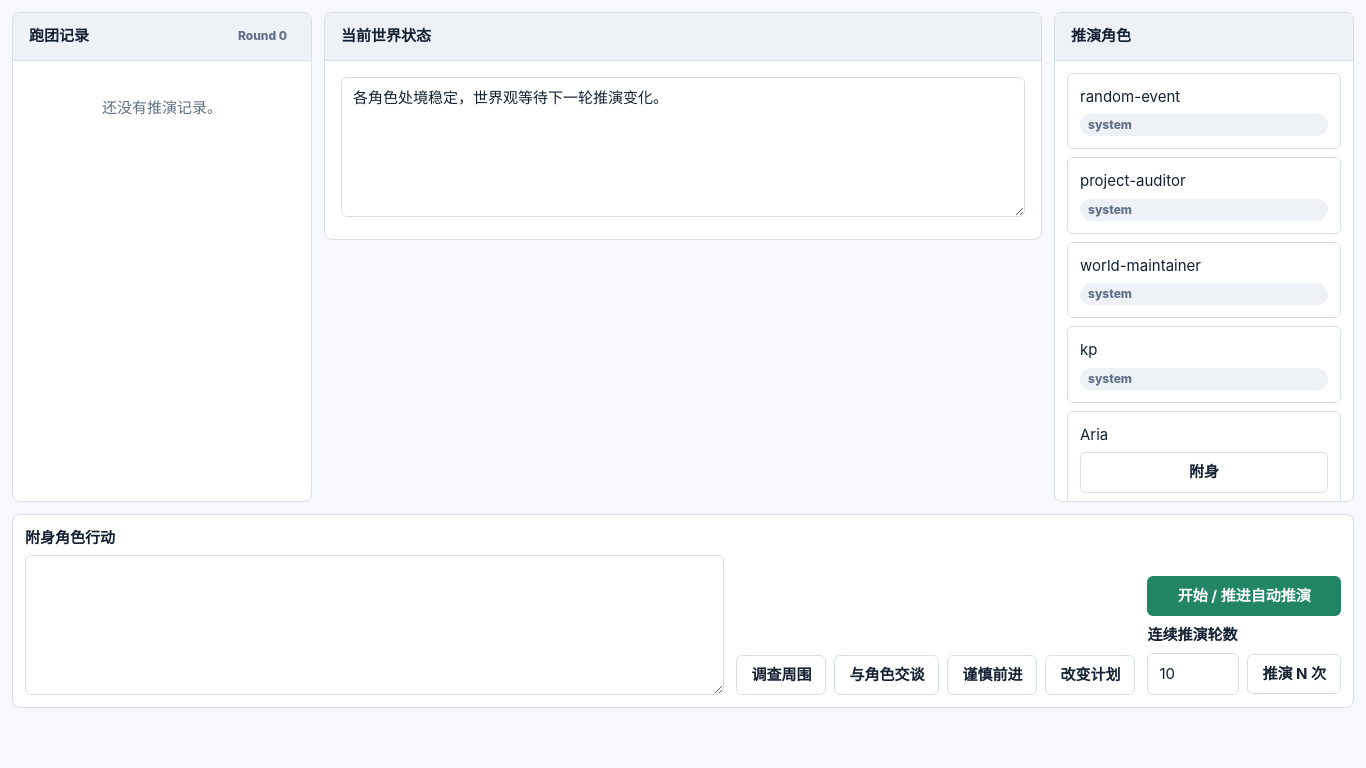
Test case: SimulationView › renders restricted runtime plan after advancing a round
Click the button with test id "advance-round-button" at (1244, 596), box 1148,576 -> 1341,616
(page scrolled)
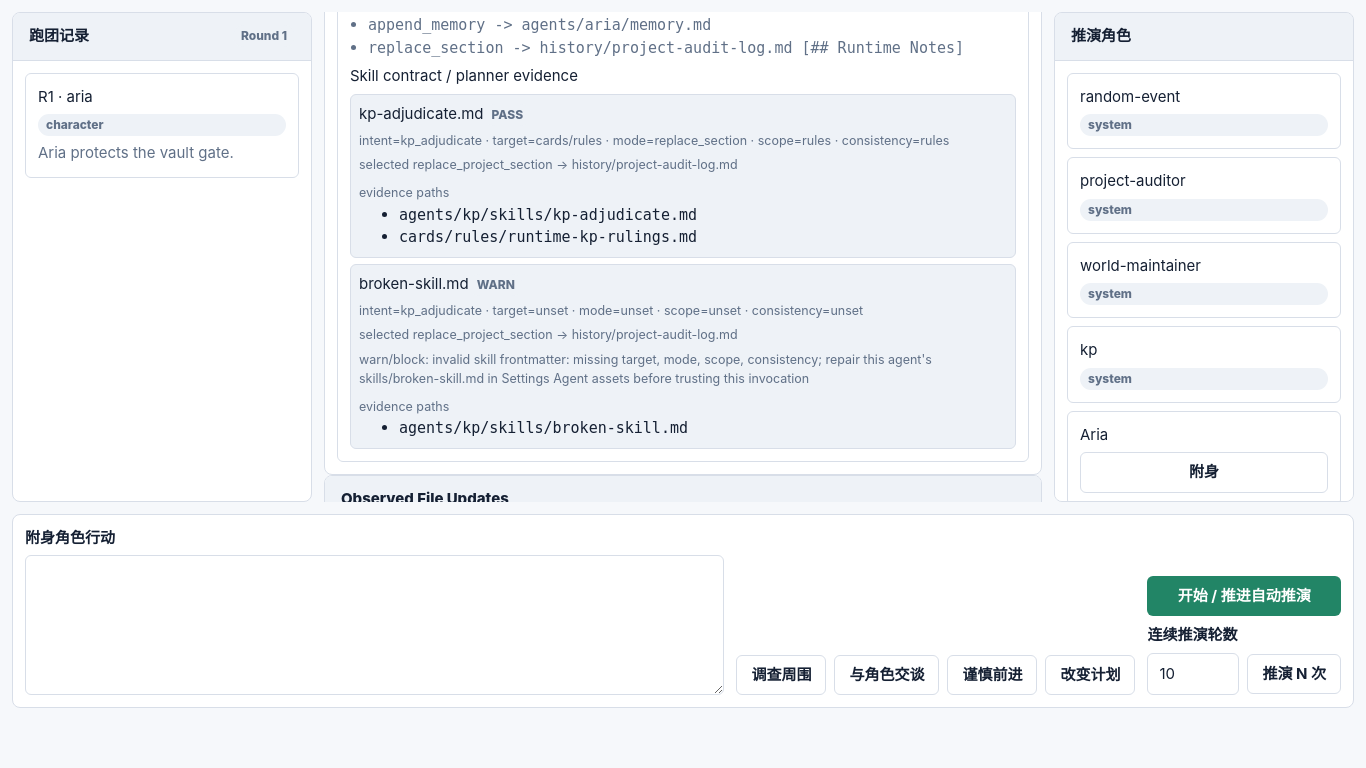
Expected: the element with test id "runtime-plan-panel" is shown, 324,12 -> 1042,474
Expected: the text "append_memory" is shown, 368,16 -> 711,34
Expected: the text "append_memory -> agents/aria/memory.md" is shown, 368,16 -> 711,34
